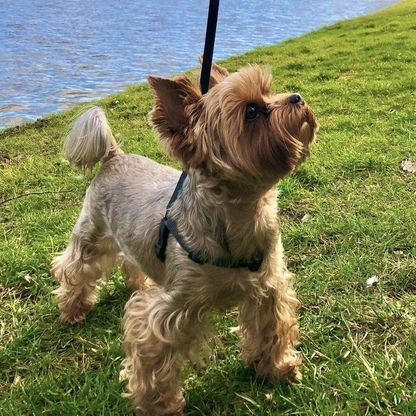yorkshire: (47, 63, 318, 413)
